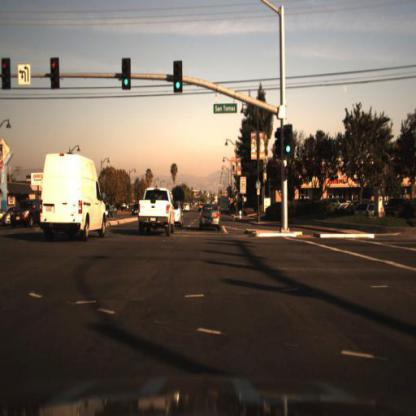car: (34, 147, 112, 251), (136, 184, 177, 239), (10, 188, 40, 234), (199, 201, 227, 241), (352, 193, 378, 225), (351, 199, 379, 220), (216, 191, 232, 218), (128, 198, 140, 219), (130, 204, 142, 218)
trafficLight: (49, 54, 57, 82)
trafficLight-Green: (118, 56, 132, 91), (170, 72, 184, 104), (282, 124, 295, 156), (174, 59, 185, 91), (283, 135, 295, 162), (122, 70, 132, 93)
trafficLight-RedLeft: (50, 56, 61, 91)
truck: (42, 149, 107, 252)
